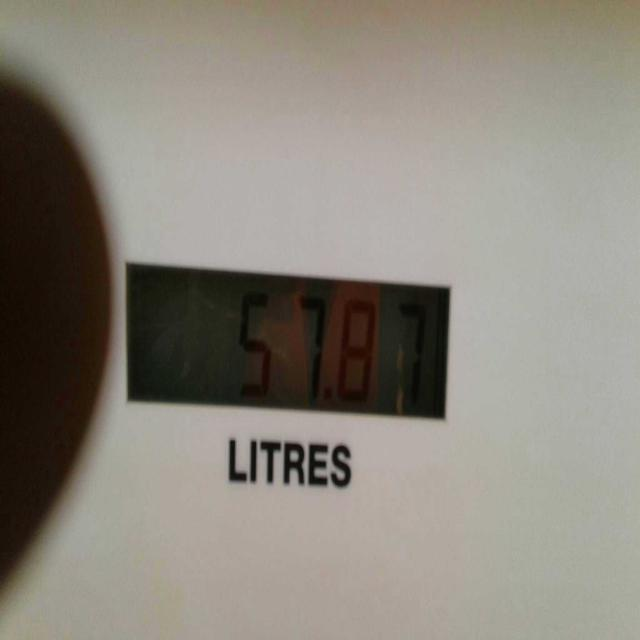.: (321, 378, 332, 408)
5: (232, 284, 279, 401)
7: (390, 290, 432, 413), (292, 289, 323, 401)
8: (335, 291, 380, 410)
